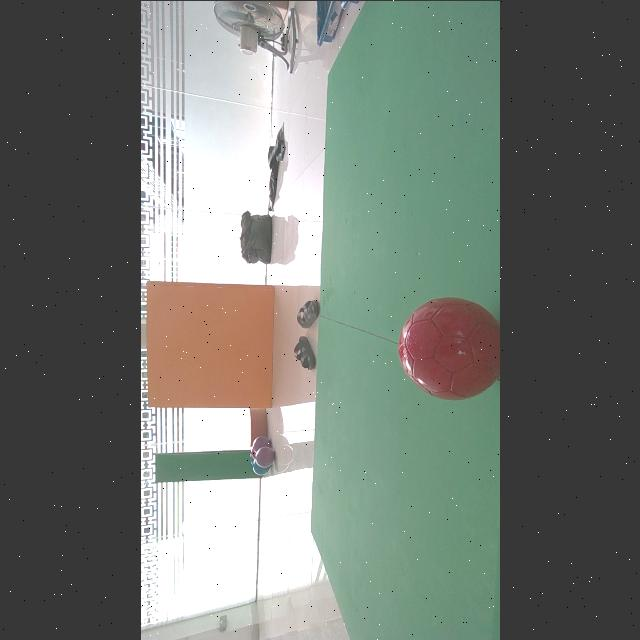B: (251, 460, 269, 476)
P: (254, 446, 274, 467), (250, 436, 270, 453)
R: (398, 297, 500, 400)
